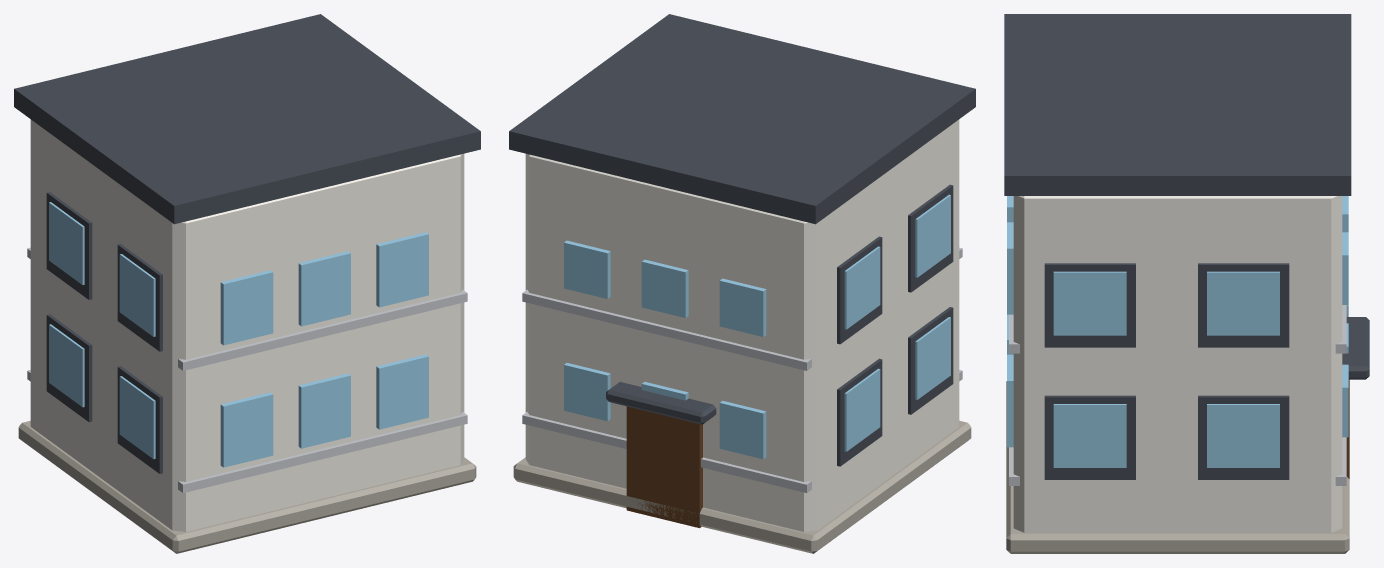
Rendered from office.glb.
3 renders of one model, left to right at view 1: azimuth 30°, elevation 25°; view 2: azimuth 150°, elevation 25°; view 3: azimuth 270°, elevation 25°, orthographic. The views are drawn at different scales.
Visible parts, largest first — view 1: office; view 2: office; view 3: office.
Part boxes in pixels (<box>): office: <box>14,14,480,553</box>; office: <box>509,14,975,553</box>; office: <box>1004,14,1369,553</box>.
Bounding box in the file's own units: 2.1 × 2.3 × 2.
1 material, 1 textured.
